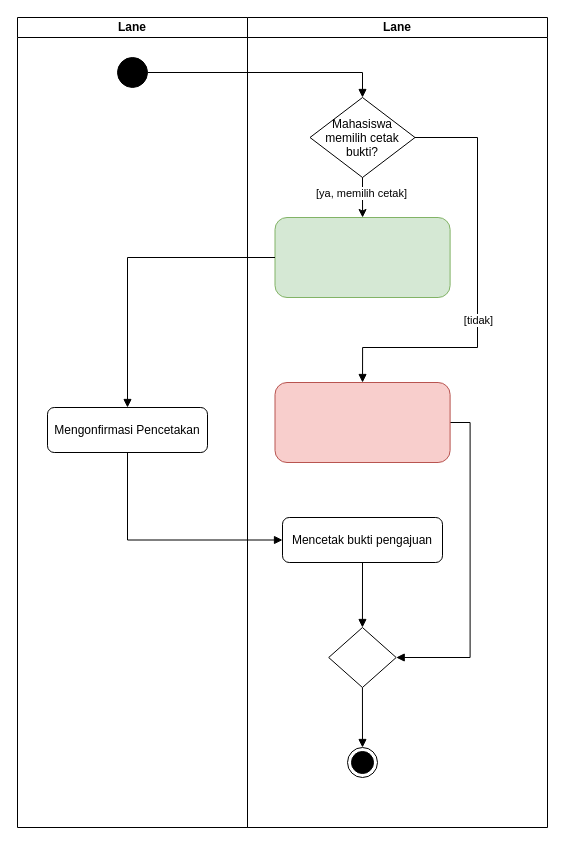
Image size: 565x845. Some labels were removed from this diagram. The box of each missing label's shape, as (x1, y1, x2, y2) in pixels:
Menampilkan bukti pengajuan dengan nomor pengajuan dan status menunggu keputusan: (274, 216, 450, 298)
Menutup konfirmasi tanpa mencetak bukti dan pengajuan tetap tersimpan: (274, 382, 450, 462)
